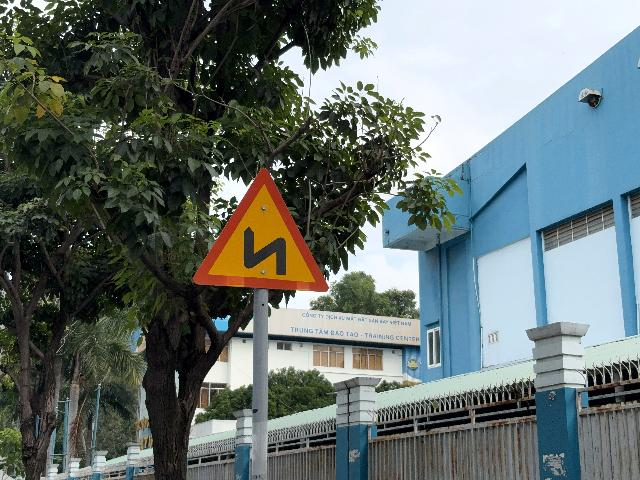nhieu-cho-ngoat-nguy-hiem-lien-tiep: (193, 168, 329, 292)
